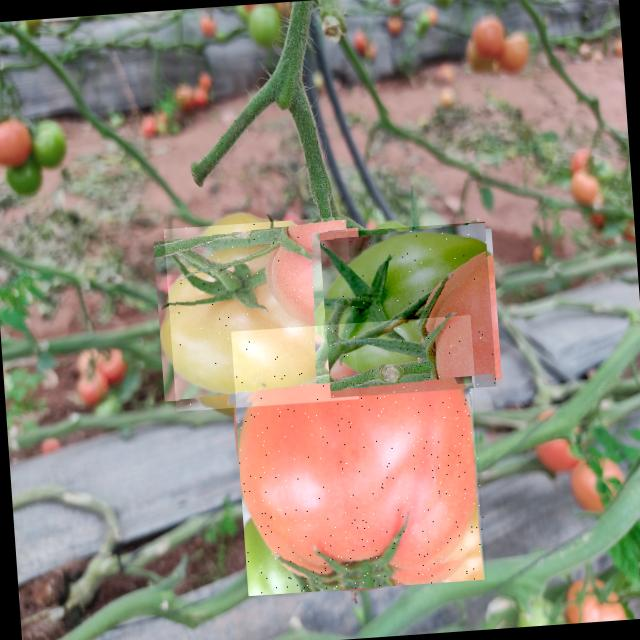Ripe Tomato: (230, 314, 488, 596)
Unripe Tomato: (164, 216, 358, 411), (319, 222, 496, 398)
